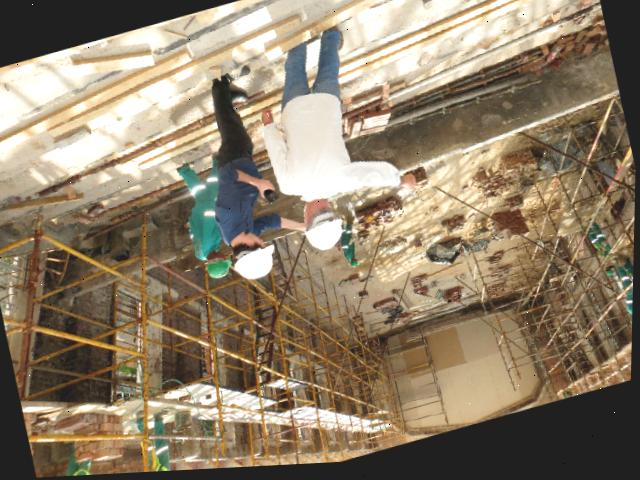helmet: (224, 243, 290, 288), (298, 217, 351, 259)
